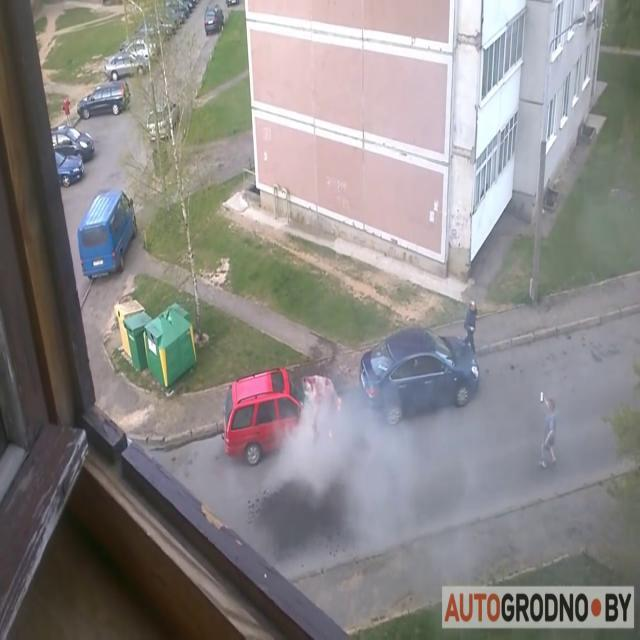Smoke: (264, 346, 434, 530)
